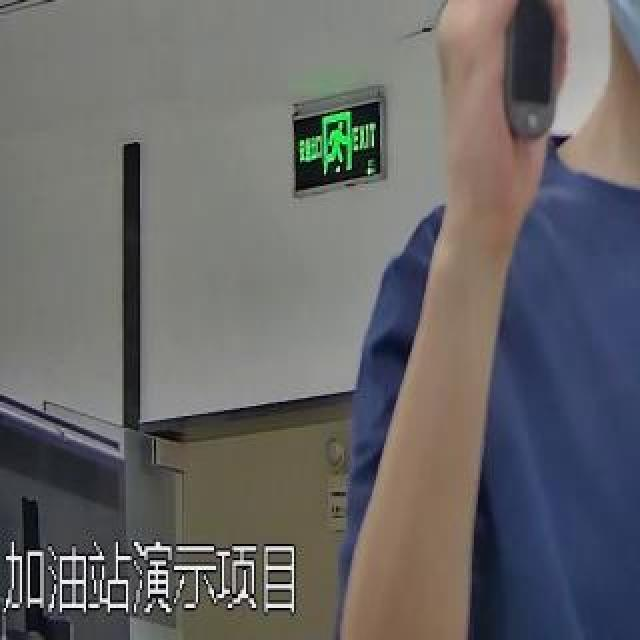Guns: (448, 0, 594, 170)
